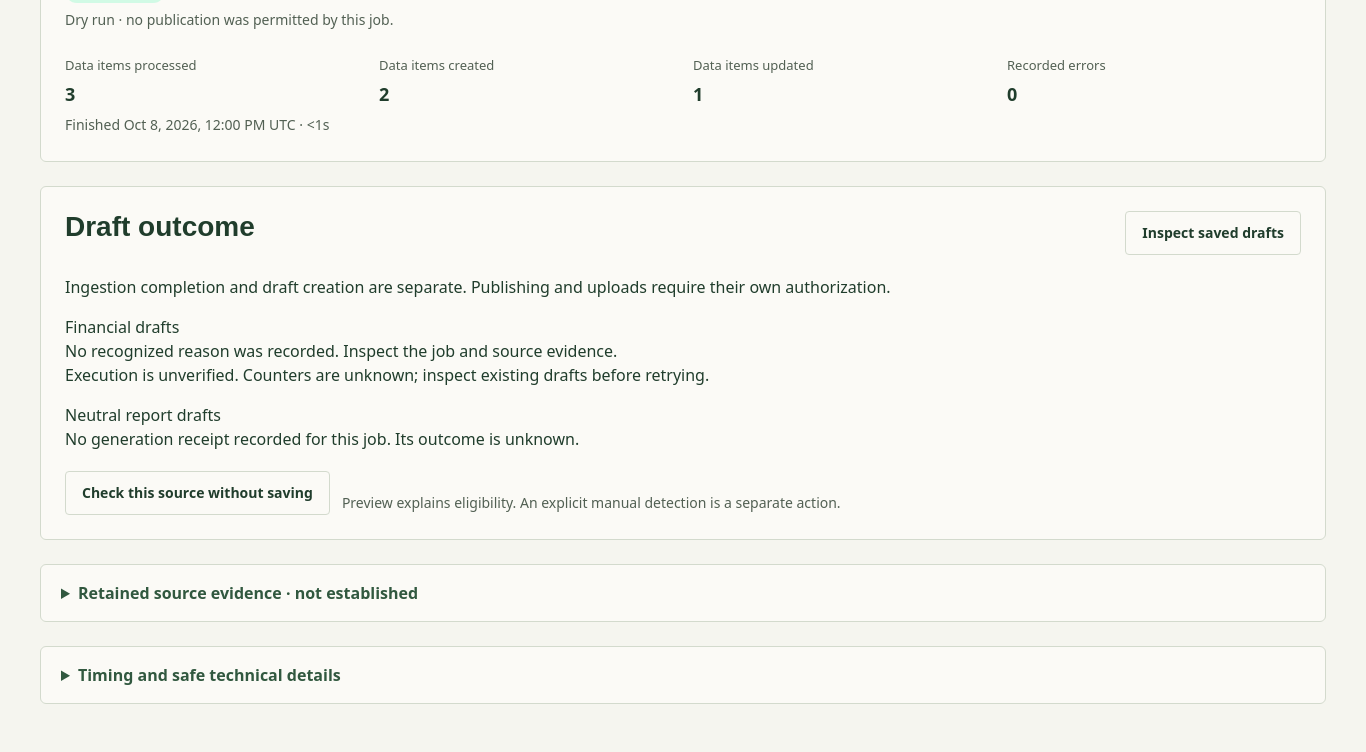
completed ingestion detail shows uncertain generation without invented zero progress
The image size is (1366, 752).
(page scrolled)
Click the heading "Timing and safe technical details".
click(209, 675)  # box [78,664,341,686]
(page scrolled)
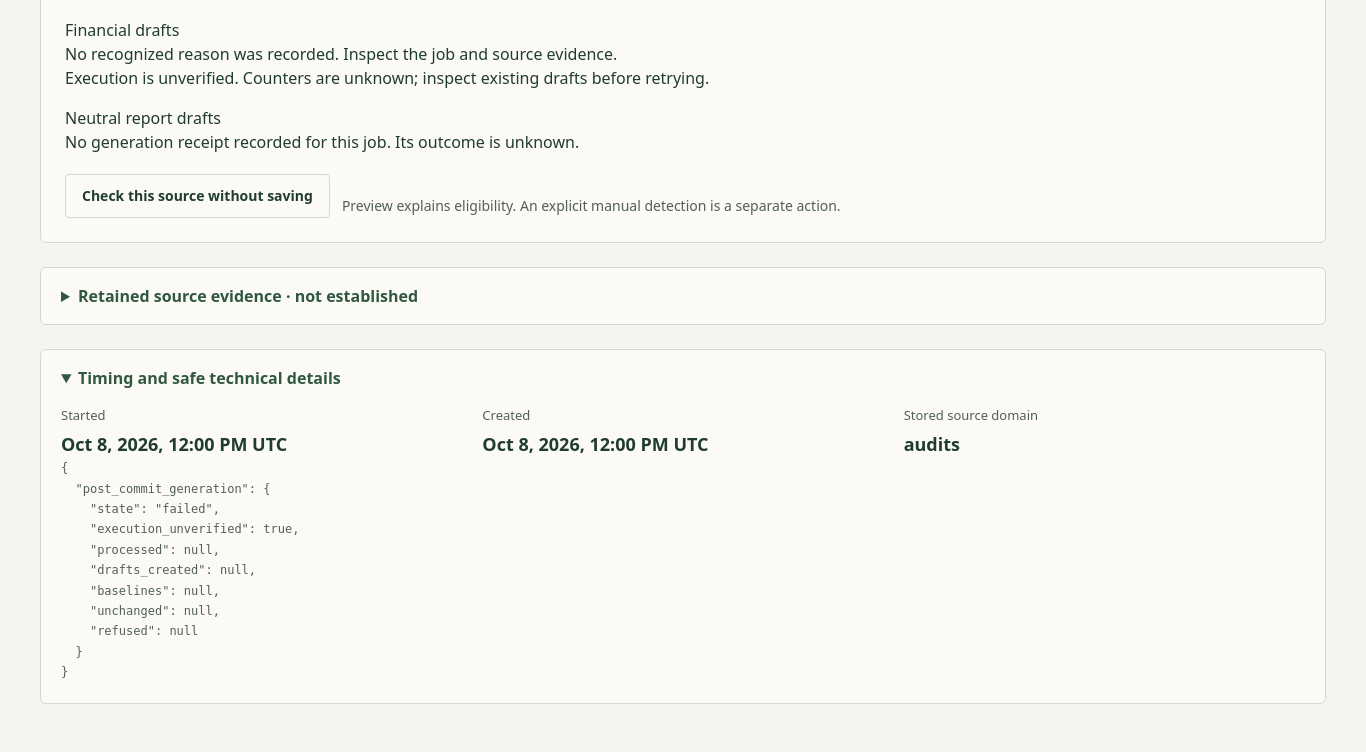
Expected: the text "post_commit_generation" shows "\"execution_unverified\": true", [61,461,299,679]
Expected: the text "post_commit_generation" shows "\"processed\": null", [61,461,299,679]
